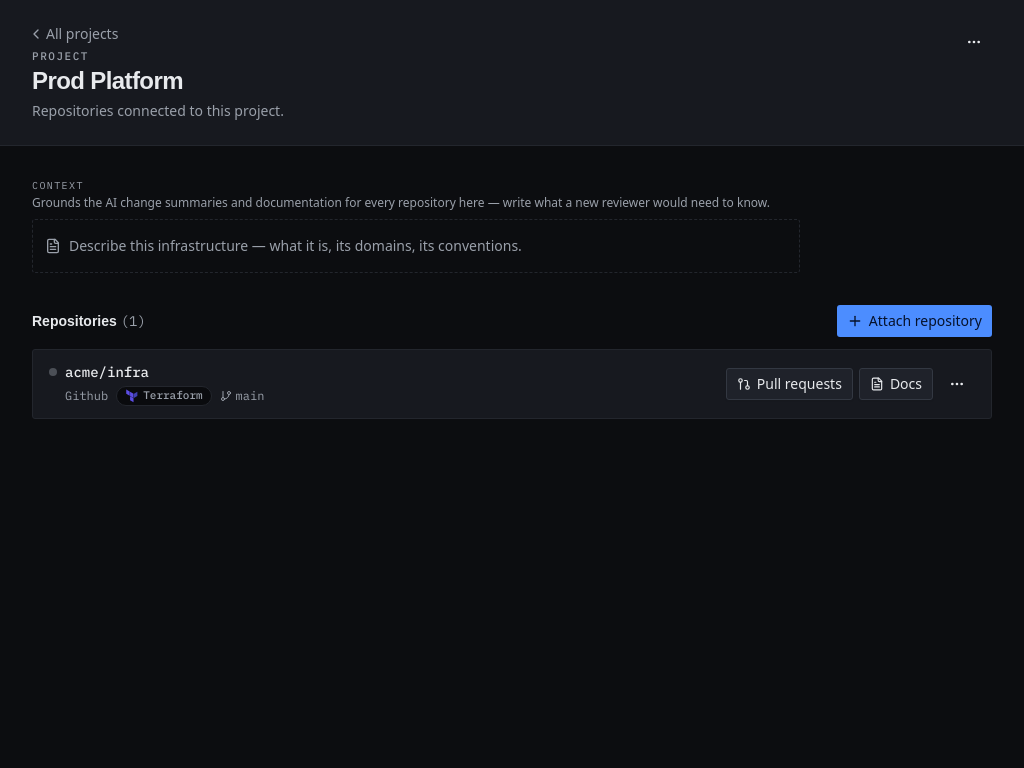
Test: re-verifies a repository from the menu and reflects the new status
The width and height of the screenshot is (1024, 768).
expect the picture named "Not verified" is shown: met, box [49,368,57,376]
Press Enter in the button named "manage acme/infra", box [939,366,975,402]
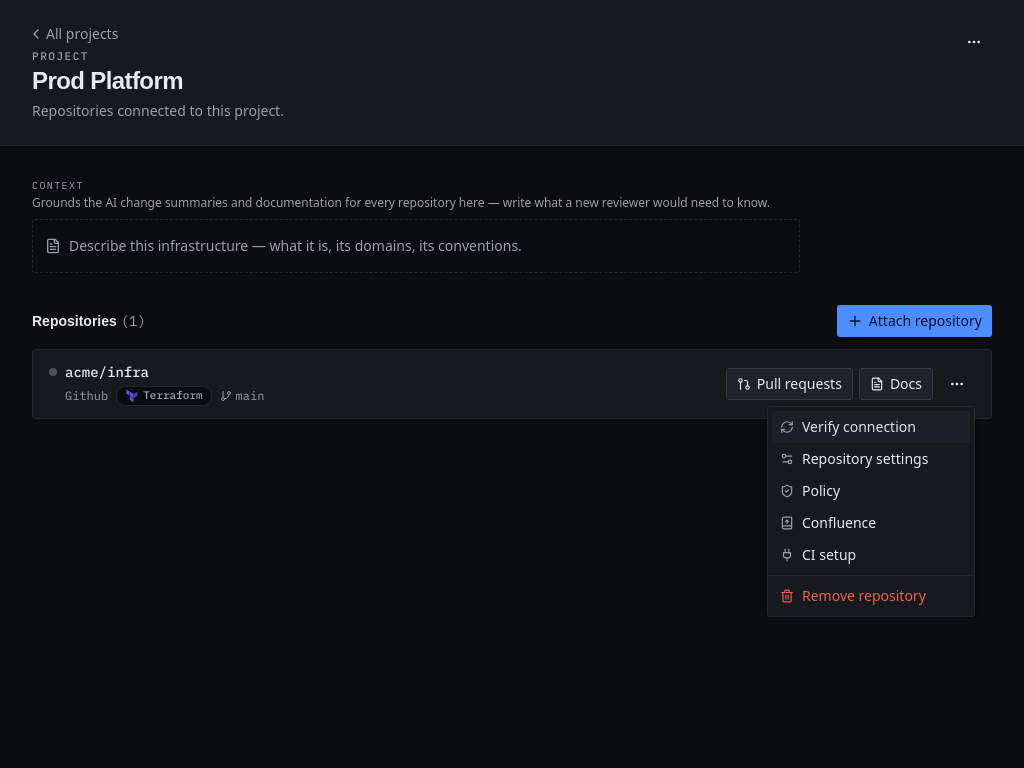
Click the menu item "Verify connection".
click(871, 427)  # box [772,411,970,443]
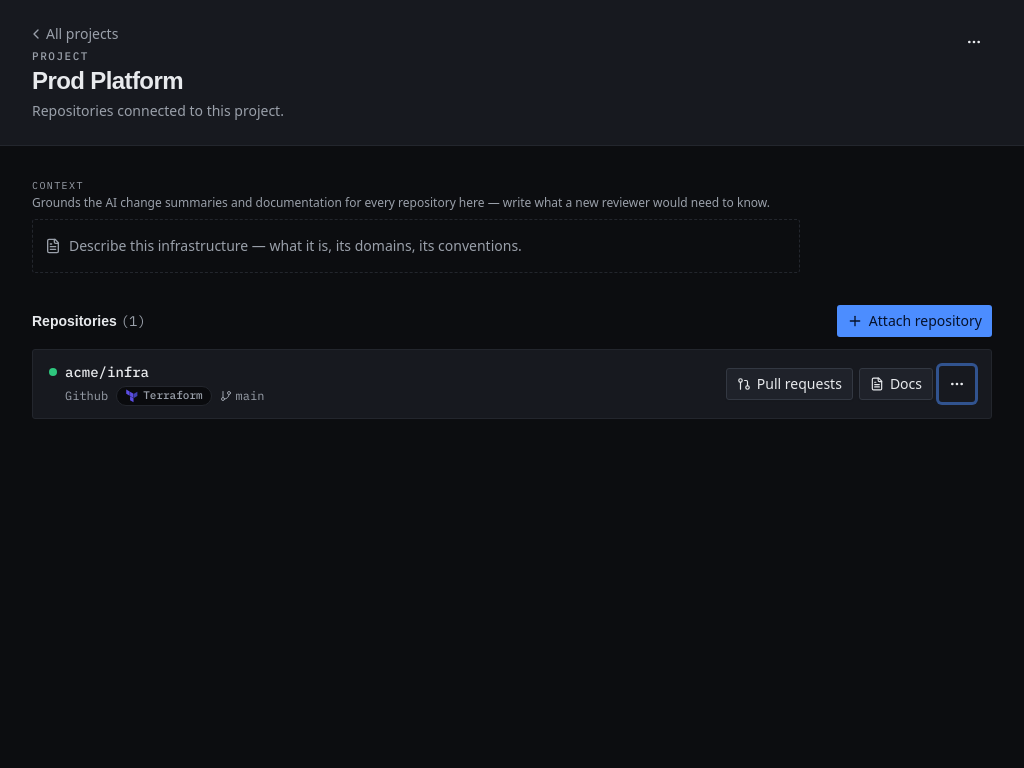
expect the picture named "Connected" is shown: met, box [49,368,57,376]
